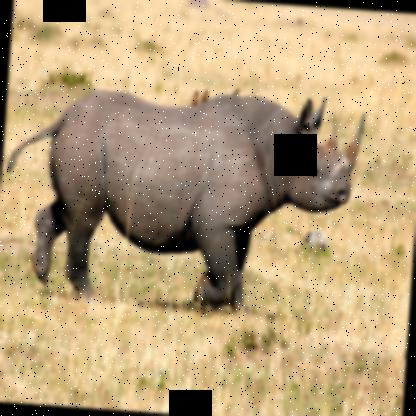Diceros bicornis: (0, 73, 368, 325)
